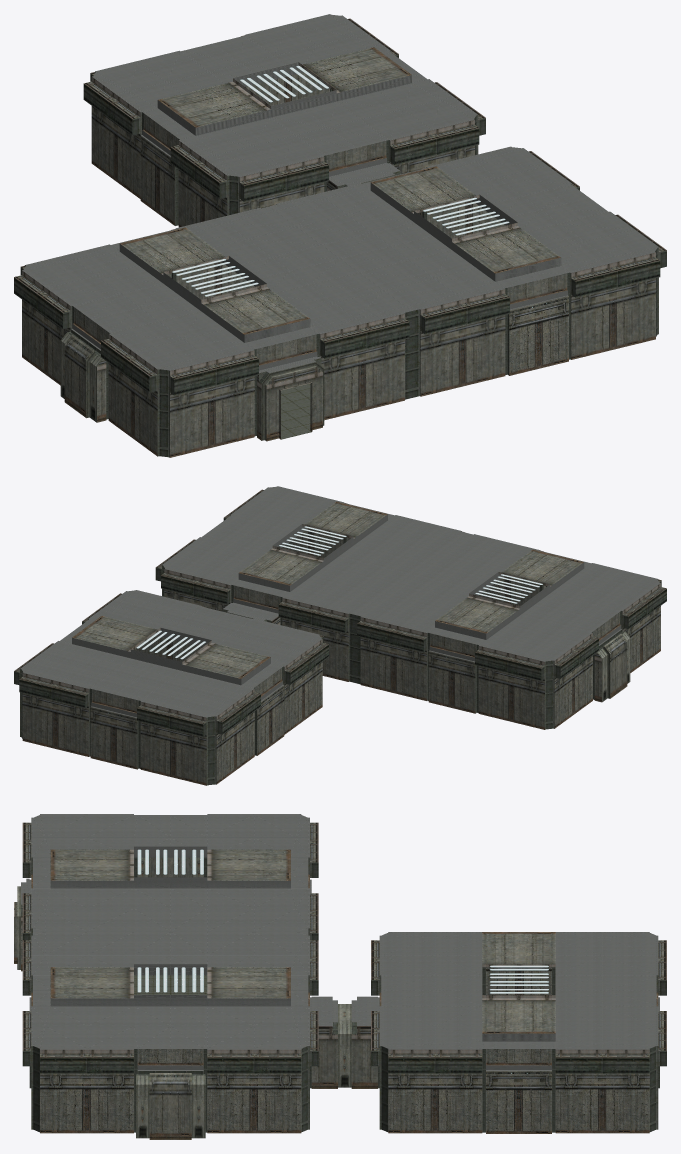
The model's file is poi_all_impl_bunker_crimelord_retreat_s01_r11_kitchen_mesh_r11.fbx.
The picture shows the model from 3 angles, top to bottom: view 1: azimuth 30°, elevation 25°; view 2: azimuth 150°, elevation 25°; view 3: azimuth 270°, elevation 25°; orthographic projection. The views are drawn at different scales.
Parts seen in each view (by area): view 1: mesh_node; view 2: mesh_node; view 3: mesh_node.
Part boxes in pixels (x1,y1,x2,y2): mesh_node: (14,14,666,457); mesh_node: (14,486,666,785); mesh_node: (14,814,666,1139).
Size of the model in its own units: 33.8 by 6 by 37.5.
